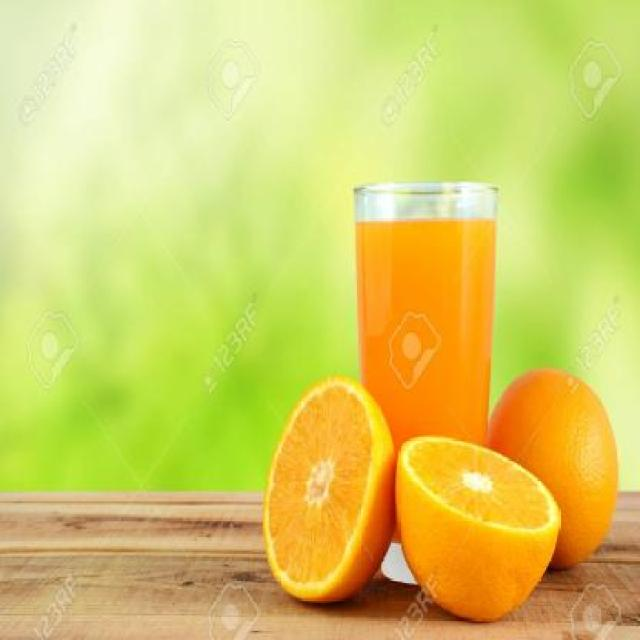Orange: (394, 434, 560, 621), (260, 374, 395, 603), (486, 366, 619, 569)
